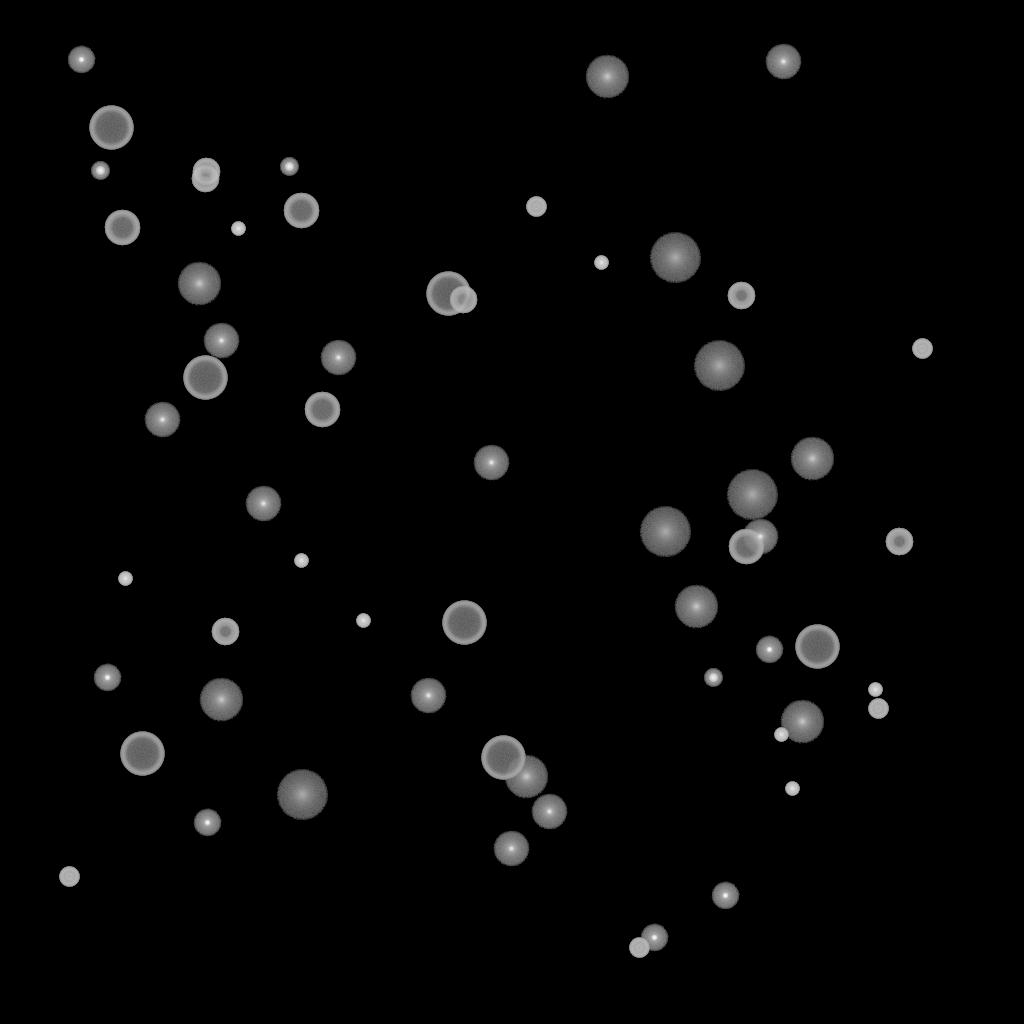depth:-10: (711, 882, 739, 910), (640, 924, 668, 952), (93, 664, 121, 692), (755, 636, 783, 664), (193, 809, 221, 837), (67, 46, 95, 74)
depth:-20: (91, 162, 109, 180), (280, 158, 298, 176), (704, 669, 722, 687)
depth:-30: (785, 782, 799, 796), (356, 614, 370, 628), (868, 683, 882, 697), (231, 222, 245, 236), (294, 554, 308, 568), (594, 256, 608, 270), (774, 728, 788, 742), (118, 572, 132, 586)
depth:-40: (868, 699, 888, 719), (629, 938, 649, 958), (912, 339, 932, 359), (59, 867, 79, 887), (526, 197, 546, 217)
depth:-50: (885, 528, 913, 556), (727, 282, 755, 310), (191, 165, 219, 193), (192, 158, 220, 186), (449, 286, 477, 314), (211, 618, 239, 646)
depth:-60: (728, 529, 764, 565), (304, 392, 340, 428), (104, 210, 140, 246), (283, 193, 319, 229)
depth:-70: (795, 625, 839, 669), (120, 732, 164, 776), (481, 736, 525, 780), (183, 356, 227, 400), (442, 601, 486, 645), (89, 106, 133, 150), (426, 272, 470, 316)
depth:0: (473, 445, 509, 481), (245, 486, 281, 522), (493, 831, 529, 867), (765, 44, 801, 80), (410, 678, 446, 714), (531, 794, 567, 830), (144, 402, 180, 438), (742, 519, 778, 555), (320, 340, 356, 376), (203, 323, 239, 359)
depth:10: (674, 585, 718, 629), (504, 755, 548, 799), (790, 437, 834, 481), (780, 700, 824, 744), (199, 678, 243, 722), (585, 55, 629, 99), (177, 262, 221, 306)
depth:20: (276, 770, 328, 820), (639, 507, 691, 557), (726, 470, 778, 520), (693, 341, 745, 391), (649, 233, 701, 283)
